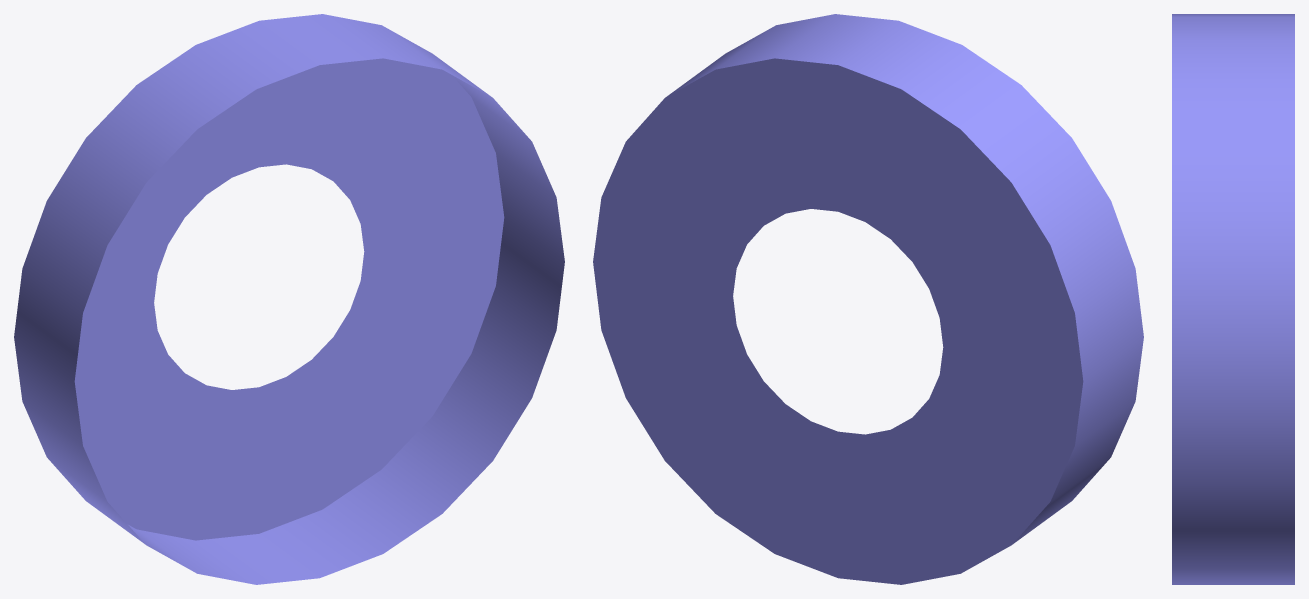
Rendered from original-7.obj.
3 renders of one model, left to right at view 1: azimuth 30°, elevation 25°; view 2: azimuth 150°, elevation 25°; view 3: azimuth 270°, elevation 25°, orthographic.
Parts seen in each view (by area): view 1: #ID37; view 2: #ID37; view 3: #ID37.
Part boxes in pixels (box(x1,y1,x2,y2)): #ID37: box(14, 14, 564, 584); #ID37: box(593, 14, 1143, 584); #ID37: box(1172, 14, 1294, 584).
Size of the model in its own units: 0.139 by 0.139 by 0.0298.
